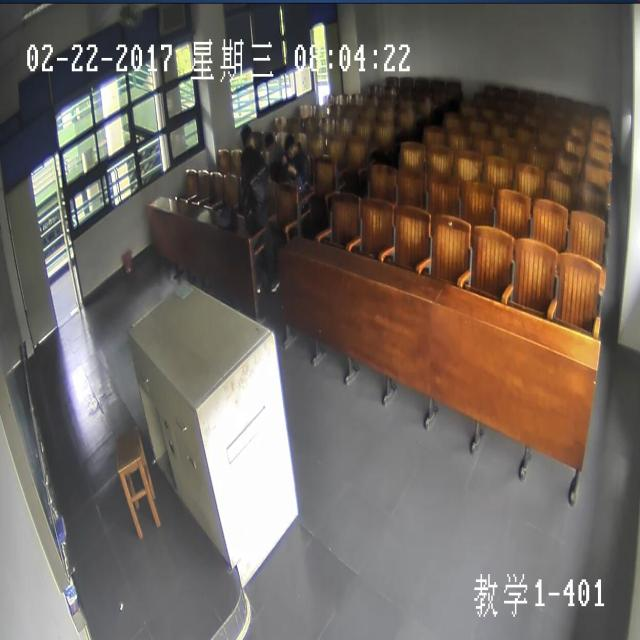person: (249, 120, 264, 156), (263, 127, 278, 157), (238, 122, 254, 150), (284, 133, 297, 156)
